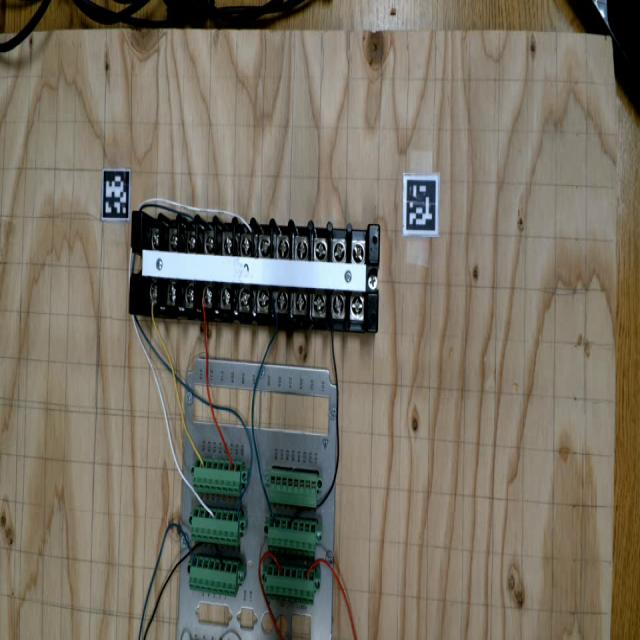Phillips_Block: (124, 206, 386, 332)
Terminal_2: (187, 554, 242, 598), (263, 564, 317, 604), (266, 516, 318, 557), (192, 458, 243, 496), (190, 507, 240, 545)
